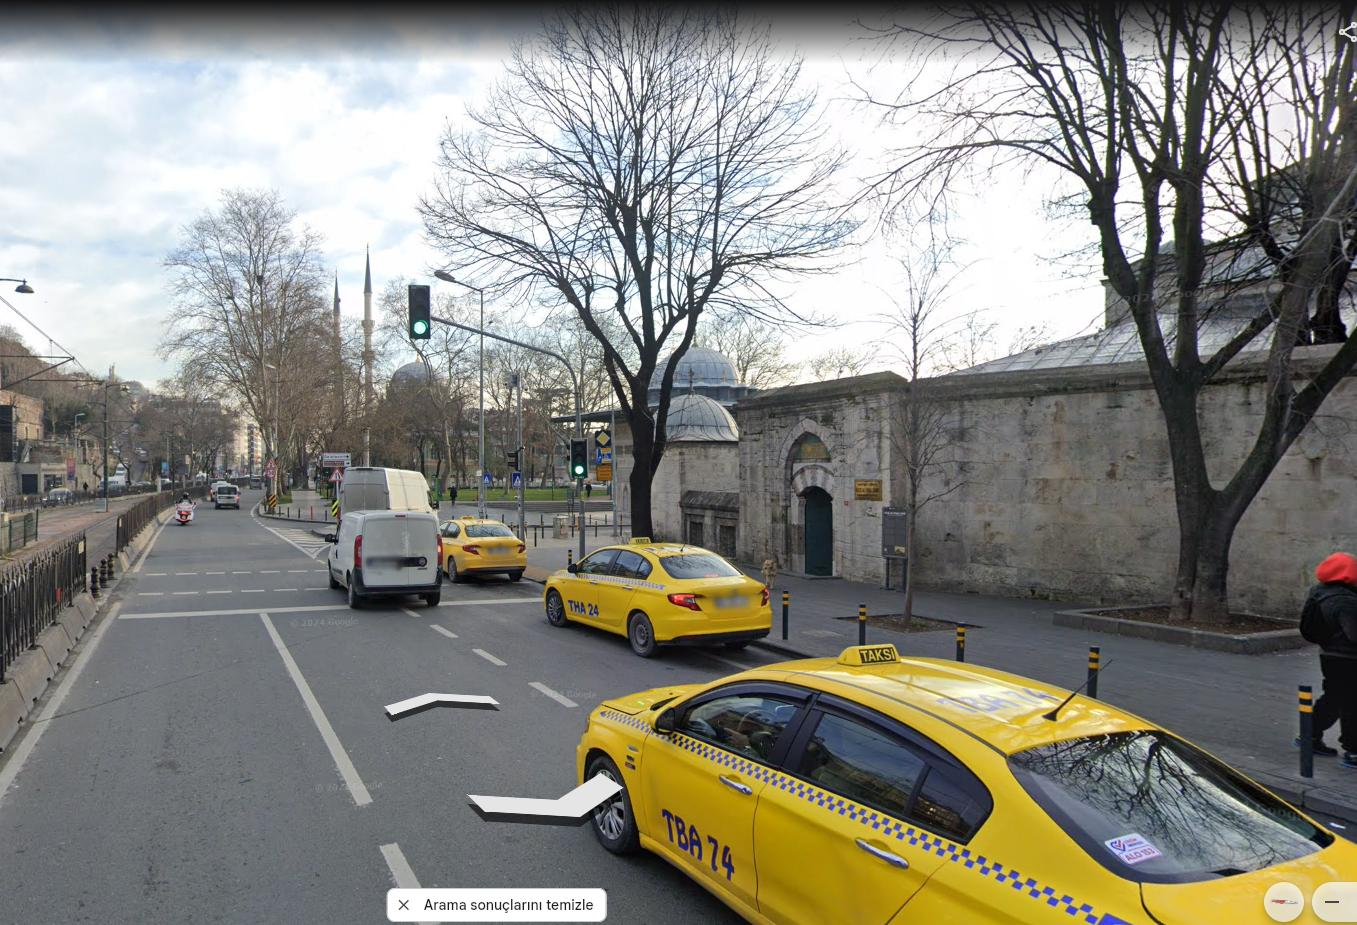greenlight: (410, 284, 429, 340), (570, 438, 588, 478)
